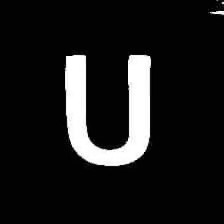LTR_U: (56, 41, 154, 169)
